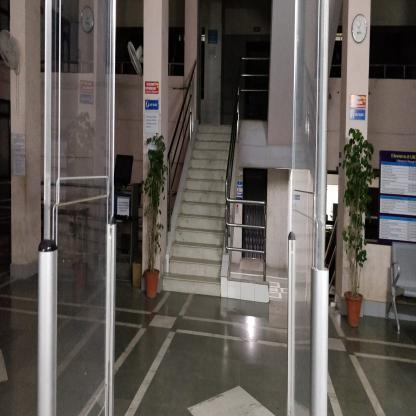stairs: (194, 148, 219, 300)
